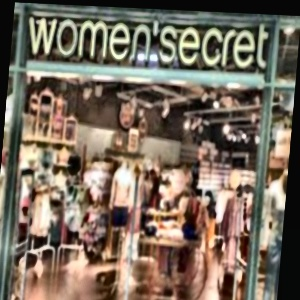women_secret: (264, 20, 283, 33)
